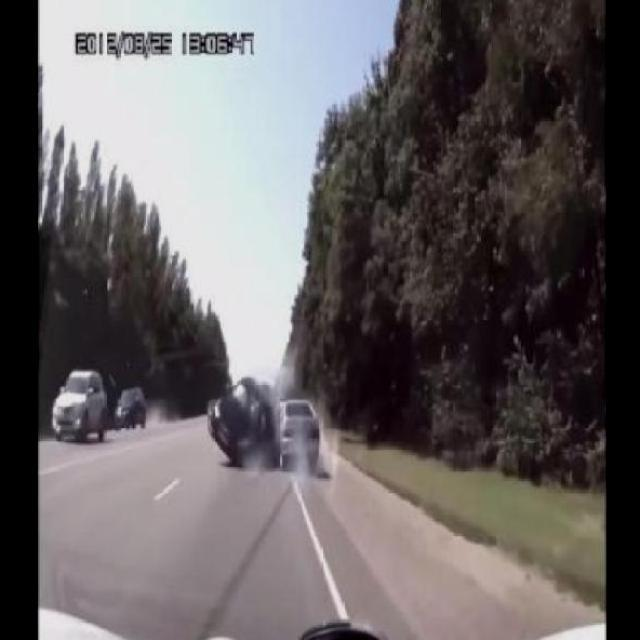accident: (199, 363, 331, 489)
